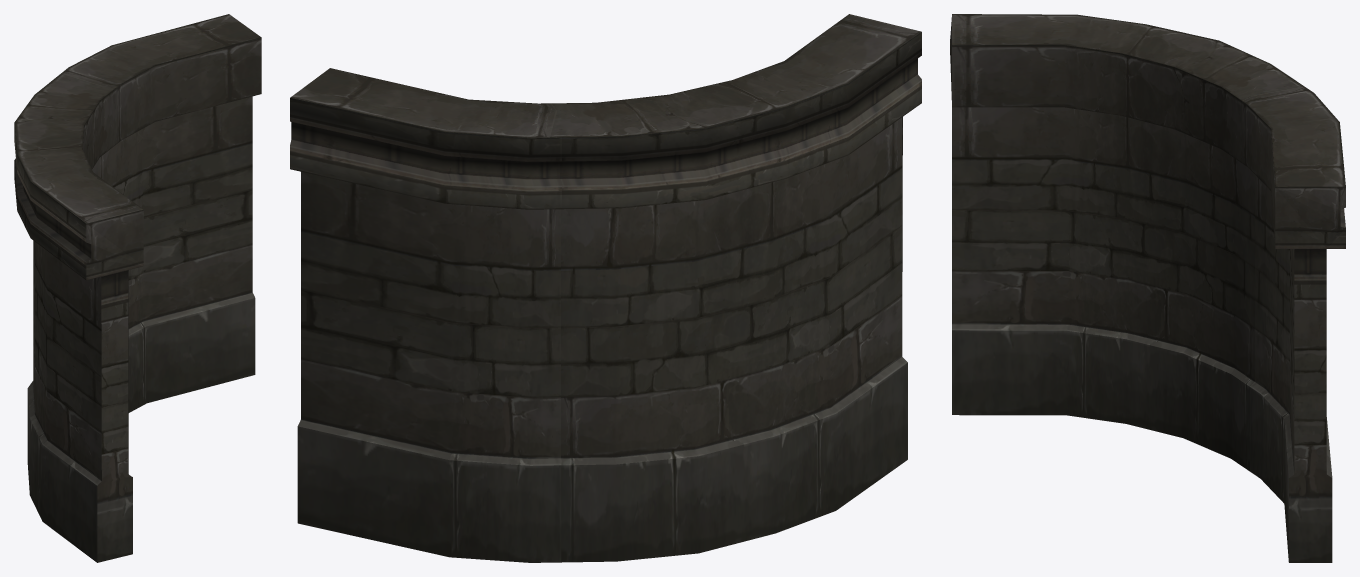
Rendered from sewer_wall006.FBX.
3 views of the same model, side by side, from view 1: azimuth 30°, elevation 25°; view 2: azimuth 150°, elevation 25°; view 3: azimuth 270°, elevation 25° (orthographic). The views are drawn at different scales.
Visible parts, largest first — view 1: sewer_wall006; view 2: sewer_wall006; view 3: sewer_wall006.
Part boxes in pixels (x1,y1,x2,y2): sewer_wall006: (14,14,261,562); sewer_wall006: (290,14,921,562); sewer_wall006: (950,14,1345,562).
Size of the model in its own units: 588 by 594 by 567.
